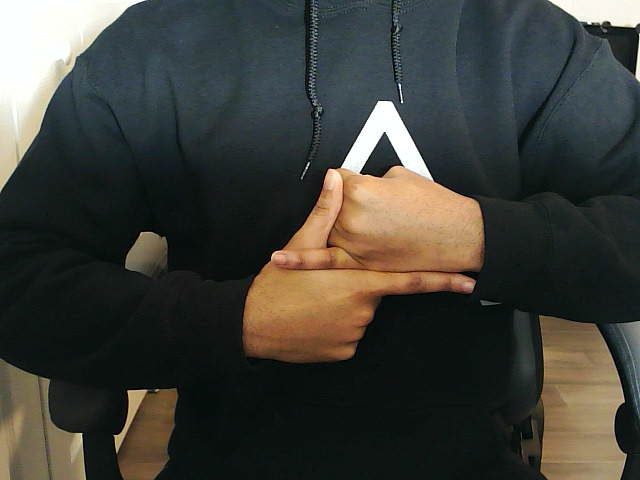Hare: (243, 166, 475, 365)
